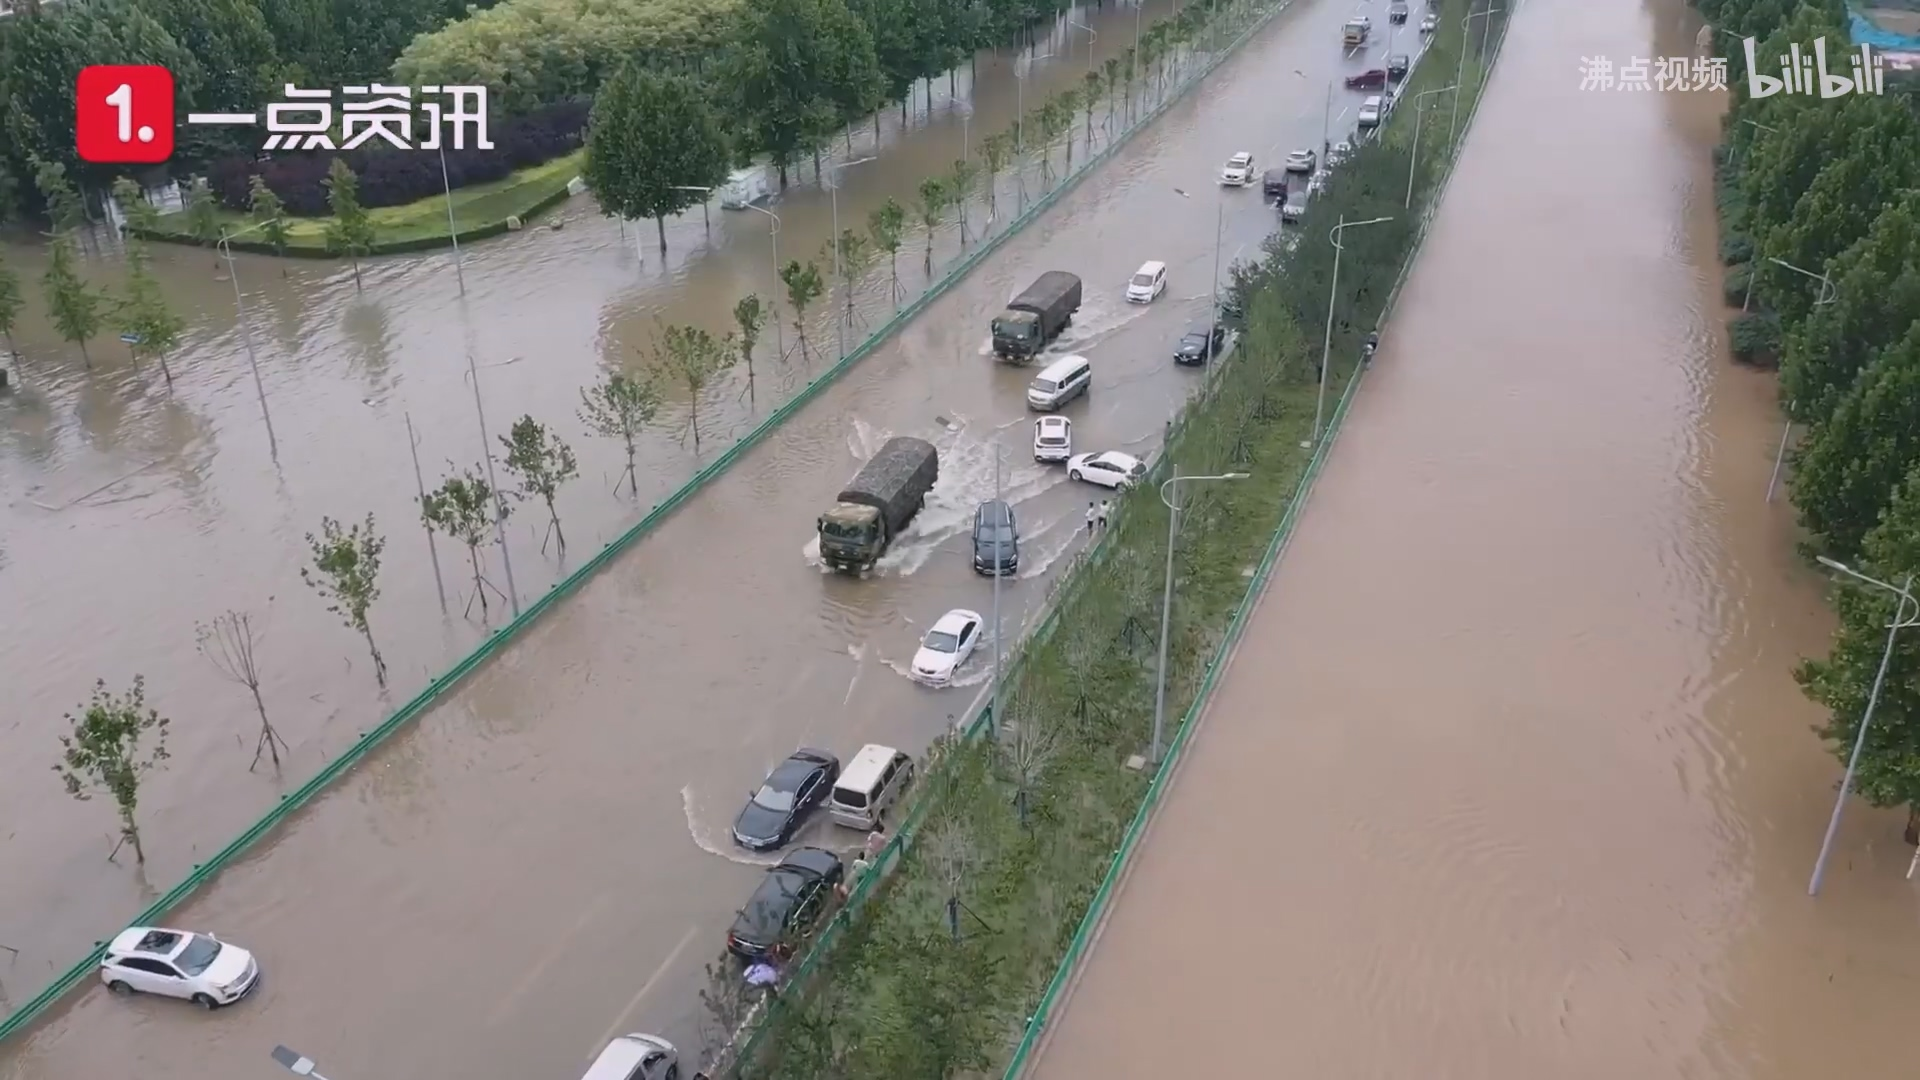puddle: (22, 204, 1019, 956), (1309, 319, 1907, 1080)
